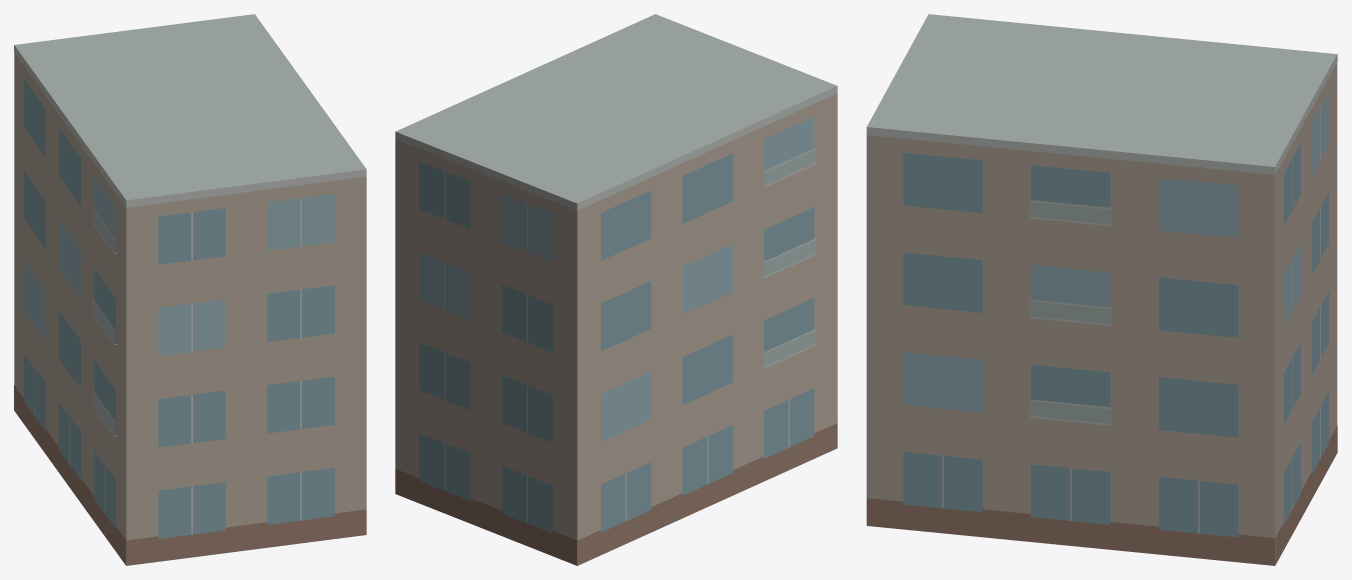
File: residential-68c0b41f-2150-4a52-8315-6760eeb86ec9.glb
3 renders of one model, left to right at view 1: azimuth 30°, elevation 25°; view 2: azimuth 150°, elevation 25°; view 3: azimuth 270°, elevation 25°, orthographic. The views are drawn at different scales.
Parts seen in each view (by area): view 1: residential-68c0b41f-2150-4a52-8315-6760eeb86ec9.tmp; view 2: residential-68c0b41f-2150-4a52-8315-6760eeb86ec9.tmp; view 3: residential-68c0b41f-2150-4a52-8315-6760eeb86ec9.tmp.
Boxes of the visible parts, left/top/right/bottom form: residential-68c0b41f-2150-4a52-8315-6760eeb86ec9.tmp: left=14, top=14, right=366, bottom=565; residential-68c0b41f-2150-4a52-8315-6760eeb86ec9.tmp: left=395, top=14, right=837, bottom=565; residential-68c0b41f-2150-4a52-8315-6760eeb86ec9.tmp: left=866, top=14, right=1337, bottom=565.
Bounding box in the file's own units: 10.05 × 12.2 × 13.06.
